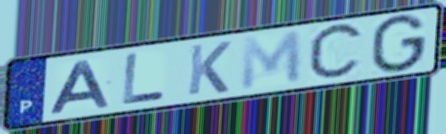A: (47, 58, 114, 116)
C: (305, 19, 368, 85)
G: (368, 13, 429, 75)
K: (184, 39, 234, 98)
L: (120, 52, 168, 107)
M: (239, 28, 304, 93)
